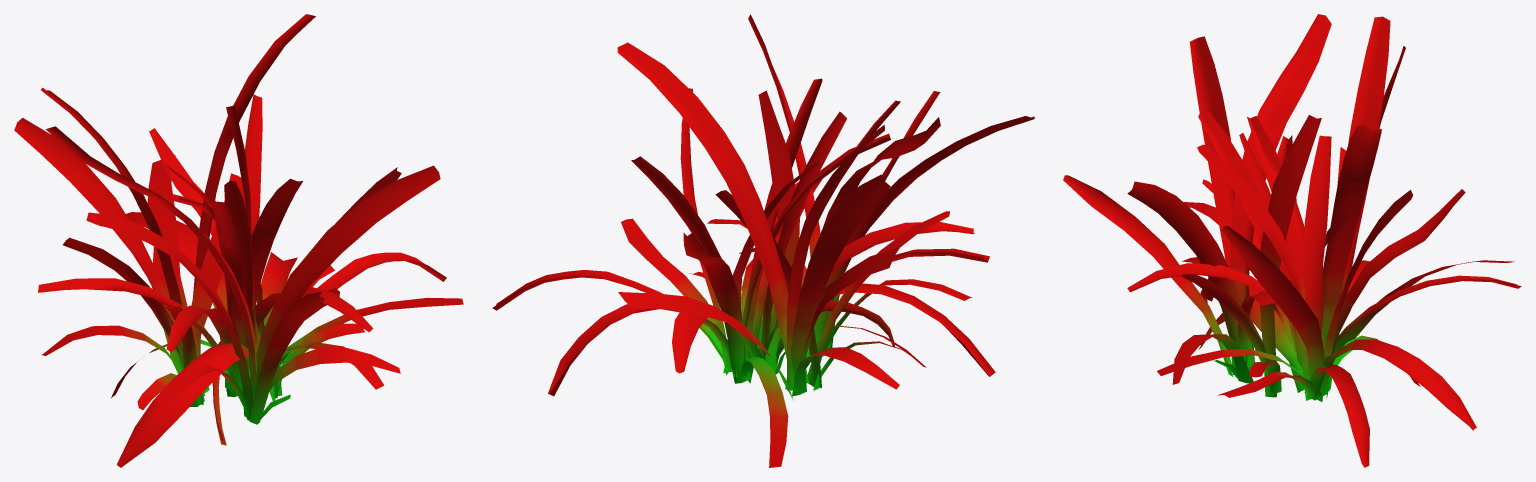
File: Var8_LOD0.fbx
3 renders of one model, left to right at view 1: azimuth 30°, elevation 25°; view 2: azimuth 150°, elevation 25°; view 3: azimuth 270°, elevation 25°, orthographic. The views are drawn at different scales.
Parts seen in each view (by area): view 1: _8cfc_Var8_LOD0; view 2: _8cfc_Var8_LOD0; view 3: _8cfc_Var8_LOD0.
Part boxes in pixels (x1,y1,x2,y2): _8cfc_Var8_LOD0: [14, 14, 463, 467]; _8cfc_Var8_LOD0: [492, 14, 1034, 467]; _8cfc_Var8_LOD0: [1063, 14, 1521, 467].
Size of the model in its own units: 102 by 78 by 95.
